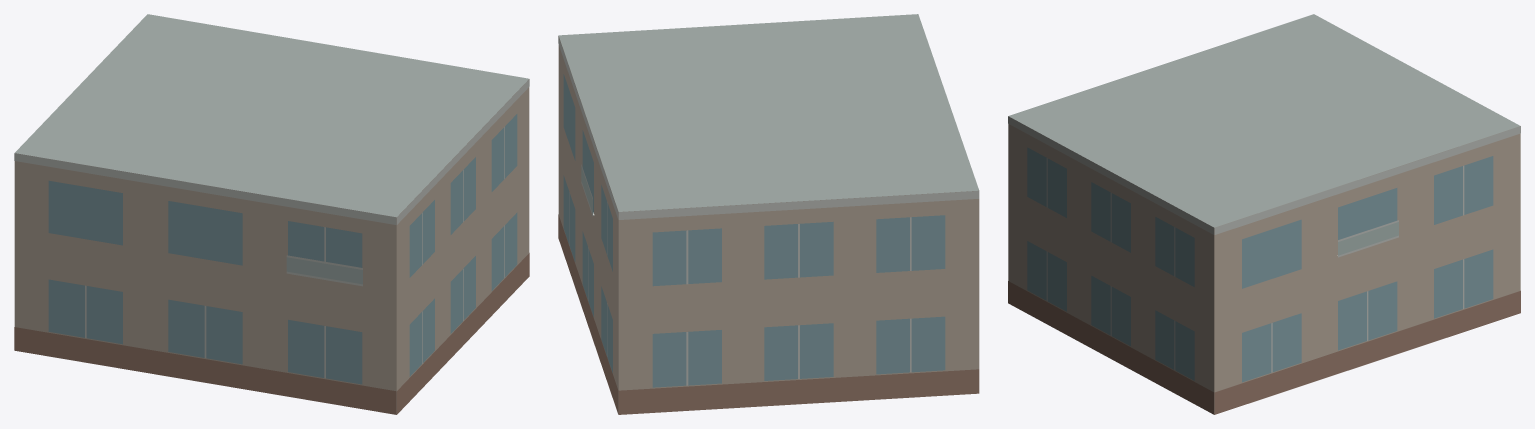
The model's file is survey-upis-33011881.glb.
3 renders of one model, left to right at view 1: azimuth 30°, elevation 25°; view 2: azimuth 150°, elevation 25°; view 3: azimuth 270°, elevation 25°, orthographic. The views are drawn at different scales.
Visible parts, largest first — view 1: survey-upis-33011881.tmp; view 2: survey-upis-33011881.tmp; view 3: survey-upis-33011881.tmp.
Part boxes in pixels (box(x1,y1,x2,y2)): survey-upis-33011881.tmp: box(14, 14, 529, 414); survey-upis-33011881.tmp: box(558, 14, 979, 414); survey-upis-33011881.tmp: box(1008, 14, 1520, 414).
Size of the model in its own units: 14.95 by 6.1 by 15.15.
